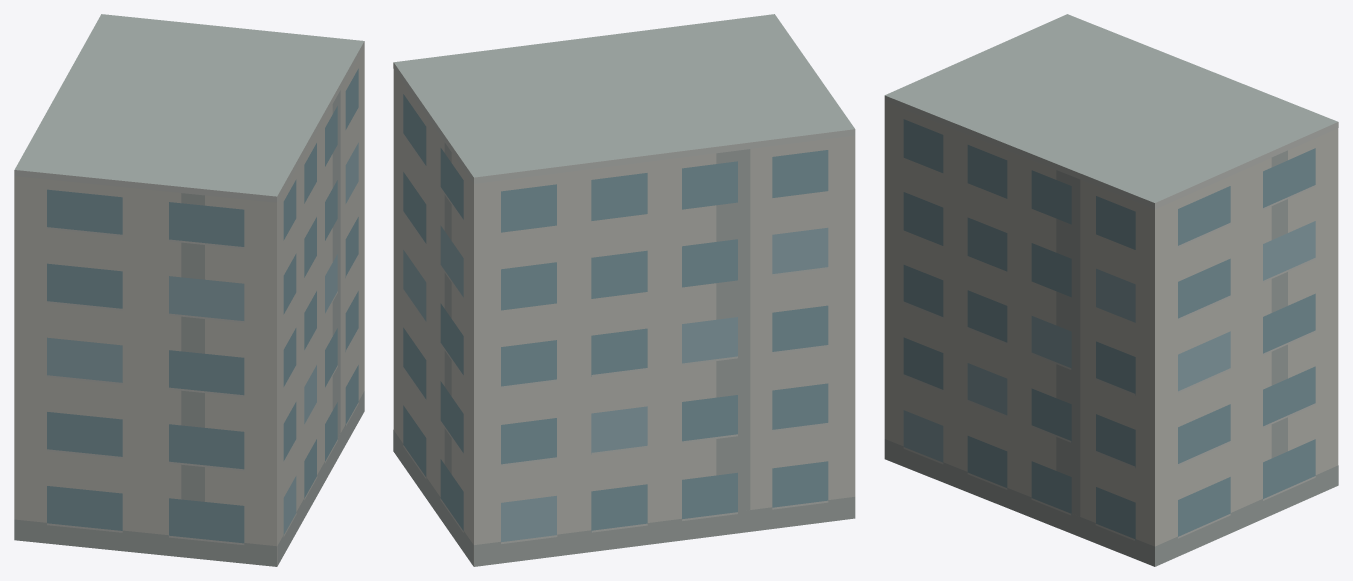
Rendered from survey-upis-32846983.glb.
The picture shows the model from 3 angles, left to right: view 1: azimuth 30°, elevation 25°; view 2: azimuth 150°, elevation 25°; view 3: azimuth 270°, elevation 25°; orthographic projection. The views are drawn at different scales.
Visible parts, largest first — view 1: survey-upis-32846983.tmp; view 2: survey-upis-32846983.tmp; view 3: survey-upis-32846983.tmp.
Boxes of the visible parts, x1=… form: survey-upis-32846983.tmp: x1=14, y1=14, x2=364, y2=566; survey-upis-32846983.tmp: x1=393, y1=14, x2=855, y2=566; survey-upis-32846983.tmp: x1=884, y1=14, x2=1338, y2=566.
Bounding box in the file's own units: 16.18 × 14.5 × 16.4.
